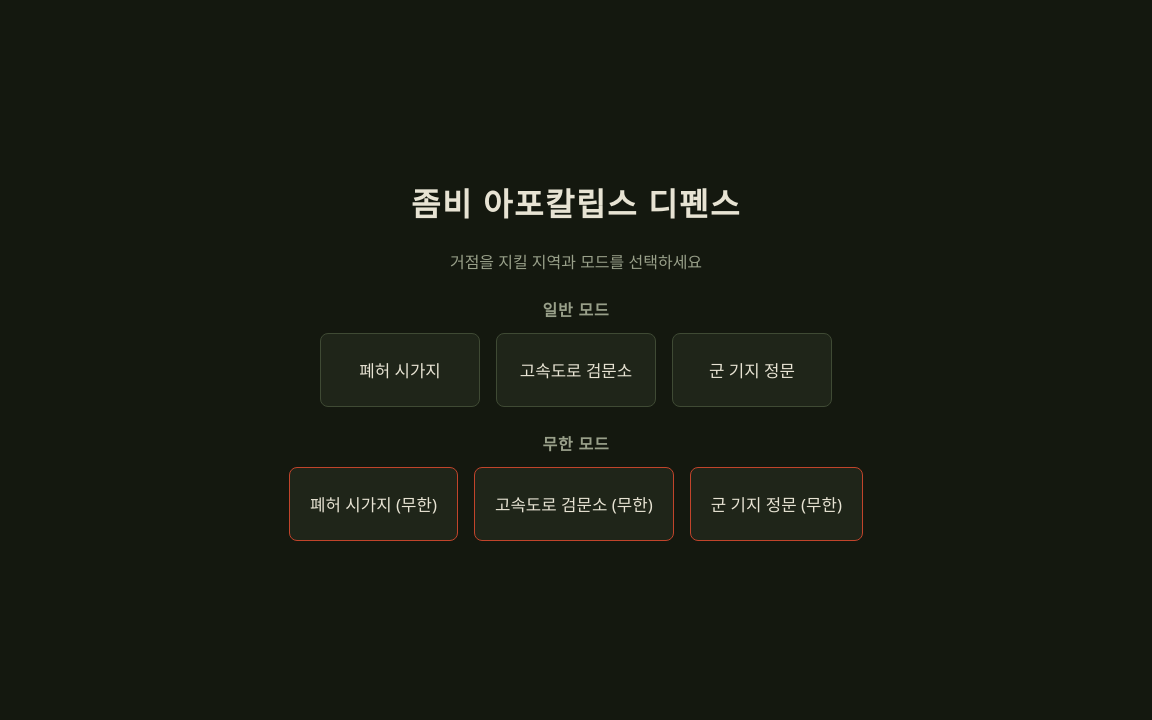
Test case: App › shows the HUD, tower shop, and canvas once a map is selected
Click the button "폐허 시가지" at point(400, 370), box [320, 333, 480, 407]
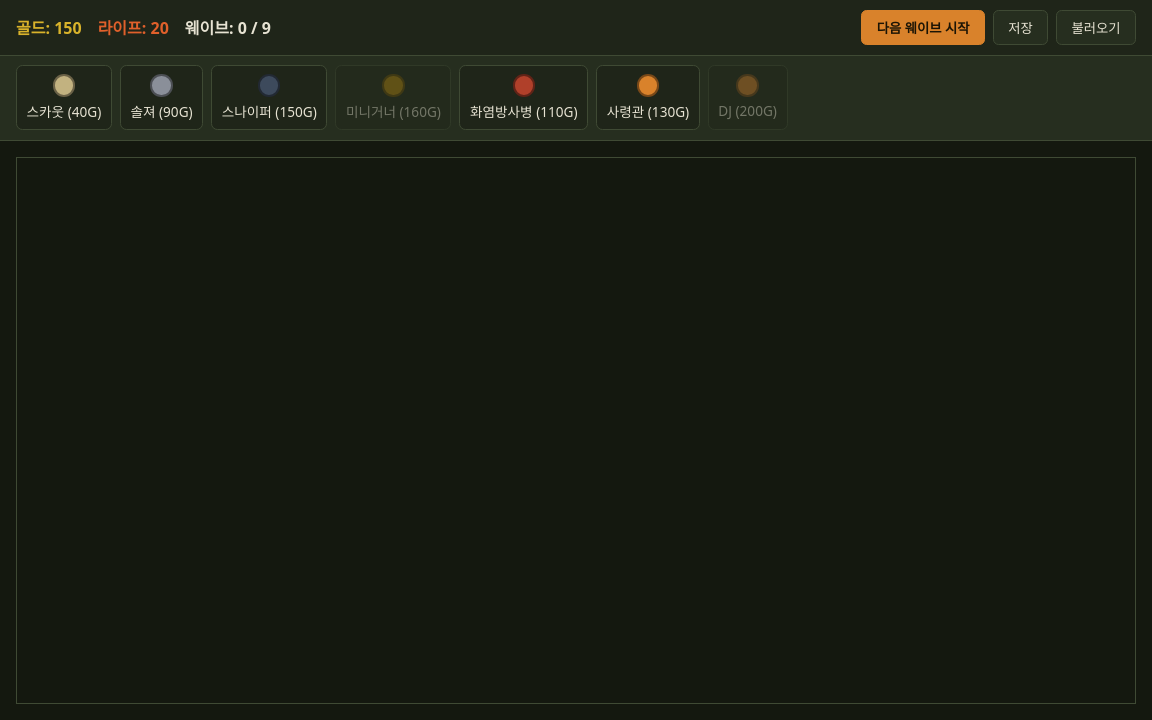
expect the text "골드: 150" is shown: met, box [16, 15, 82, 39]
expect the drawing is shown: met
